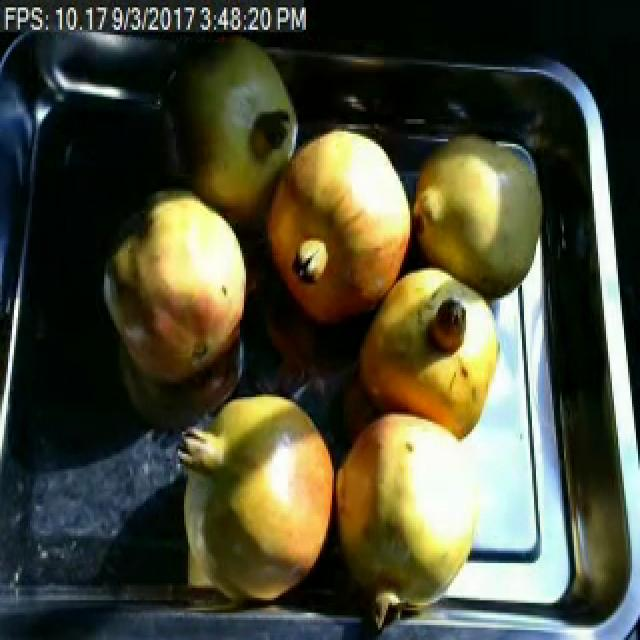fruit: (318, 392, 502, 632), (94, 172, 268, 404), (248, 119, 422, 337), (344, 260, 510, 449), (404, 126, 554, 302)
